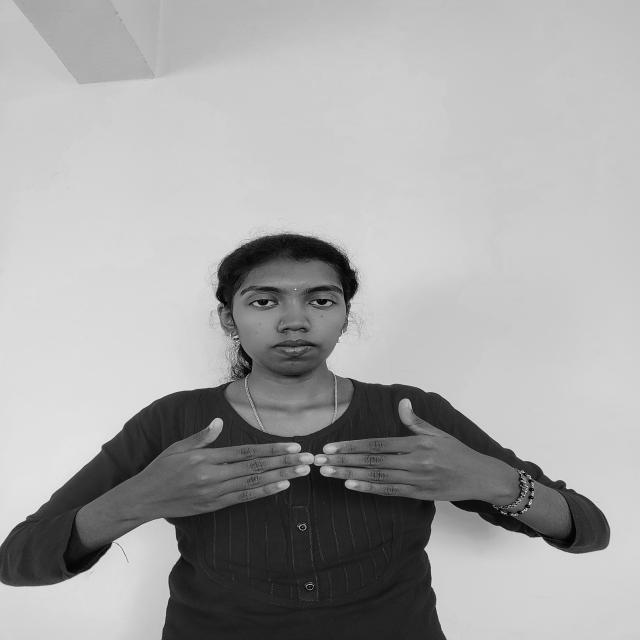Night: (123, 395, 500, 528)
